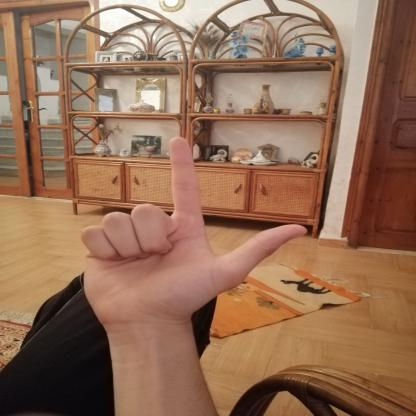LAAM: (57, 127, 320, 337)
